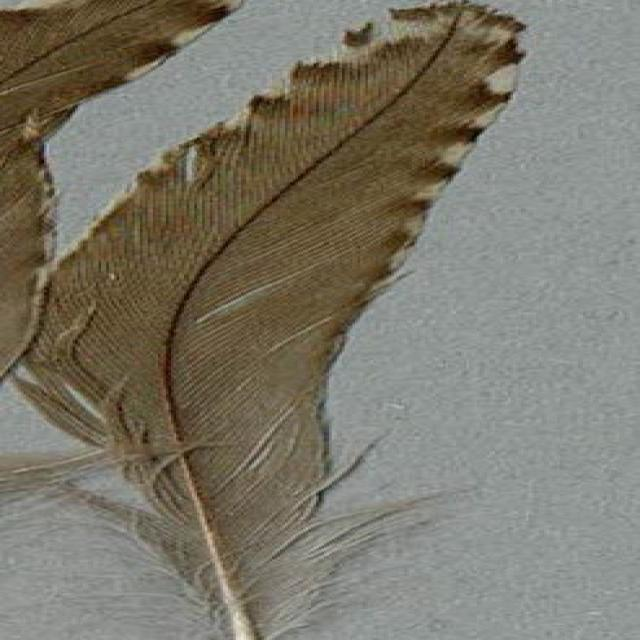feather: (22, 0, 540, 640)
